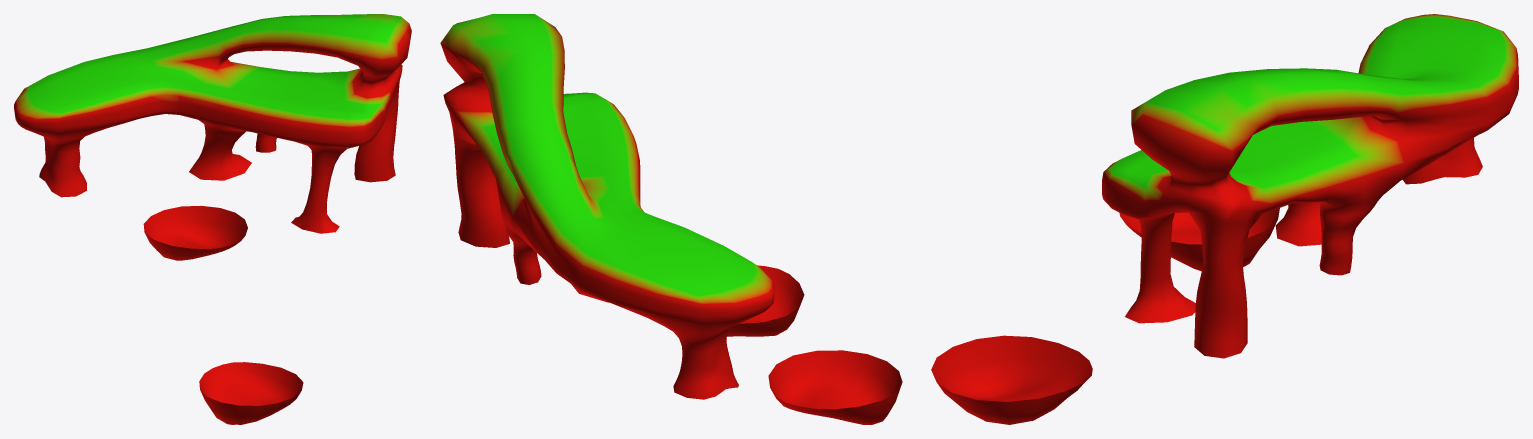
File: Pillar Mesa.fbx
3 renders of one model, left to right at view 1: azimuth 30°, elevation 25°; view 2: azimuth 150°, elevation 25°; view 3: azimuth 270°, elevation 25°, orthographic. The views are drawn at different scales.
Parts seen in each view (by area): view 1: Pillar Mesa; view 2: Pillar Mesa; view 3: Pillar Mesa.
Boxes of the visible parts, x1,y1,x2,y2 form: Pillar Mesa: (14, 14, 411, 424); Pillar Mesa: (440, 14, 902, 424); Pillar Mesa: (931, 14, 1518, 424).
Size of the model in its own units: 2687 by 2423 by 2840.
